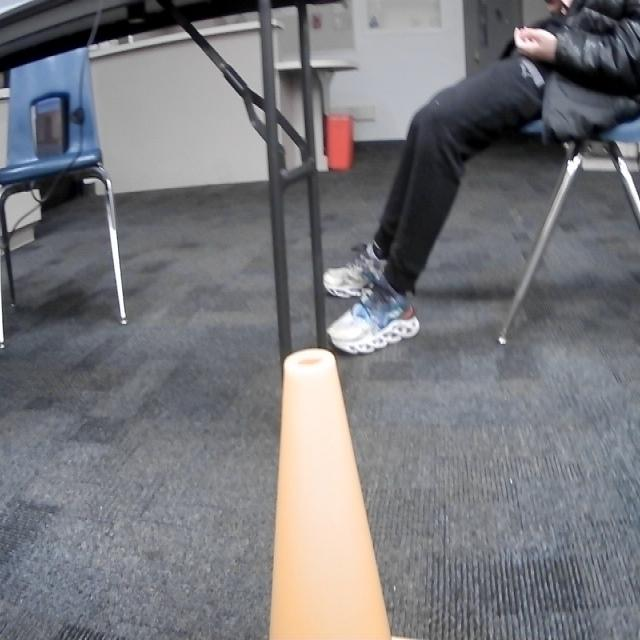cone: (266, 349, 392, 640)
